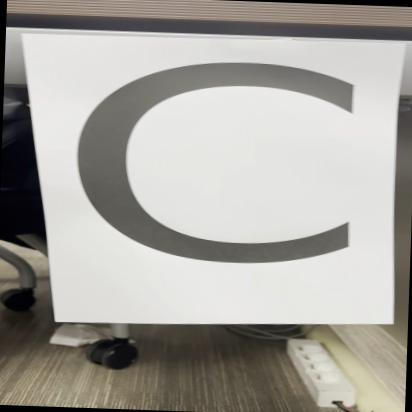seat: (5, 22, 412, 338)
